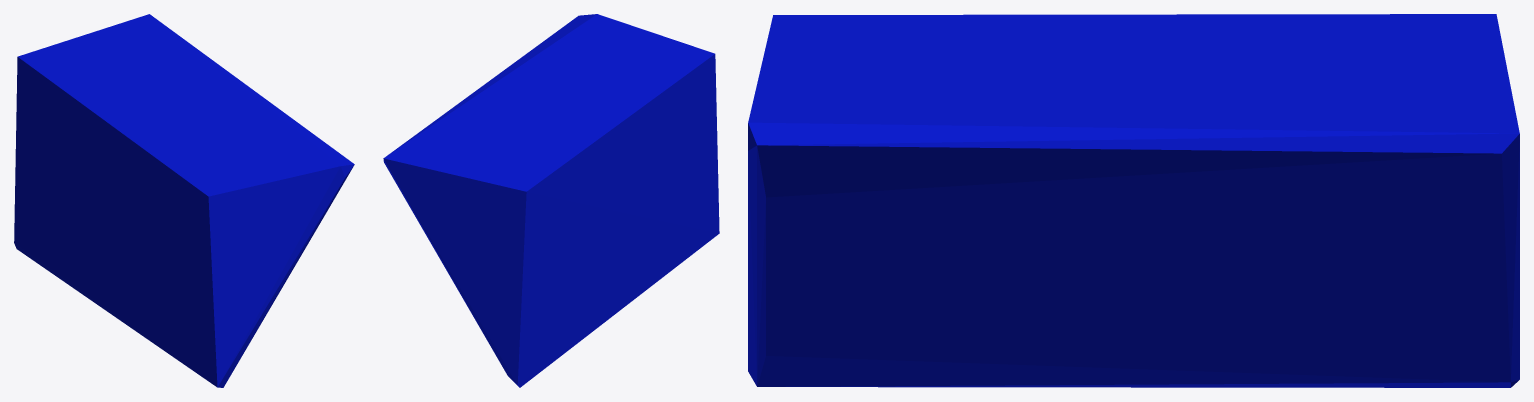
File: pent_convex_piece_002.obj
The picture shows the model from 3 angles, left to right: view 1: azimuth 30°, elevation 25°; view 2: azimuth 150°, elevation 25°; view 3: azimuth 270°, elevation 25°; orthographic projection. The views are drawn at different scales.
Bounding box in the file's own units: 0.0223 × 0.03 × 0.0552.
